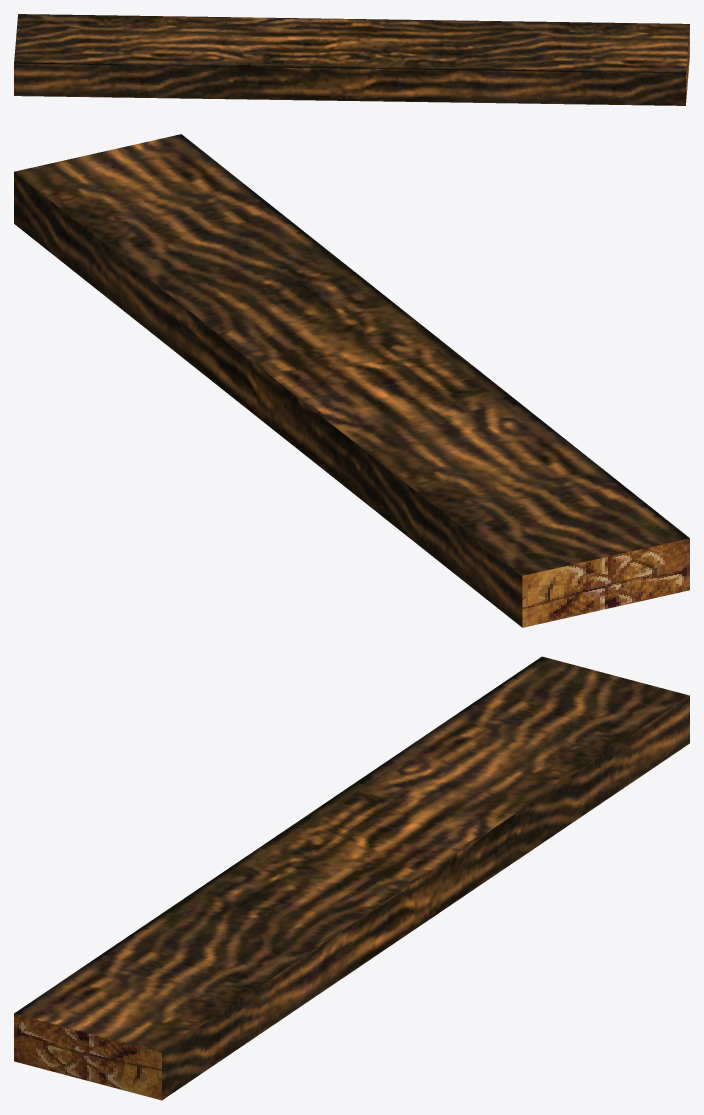
File: OVERHILL_A_01_BOX92.fbx
The picture shows the model from 3 angles, top to bottom: view 1: azimuth 30°, elevation 25°; view 2: azimuth 150°, elevation 25°; view 3: azimuth 270°, elevation 25°; orthographic projection. The views are drawn at different scales.
Parts seen in each view (by area): view 1: OVERHILL_A_01_BOX92; view 2: OVERHILL_A_01_BOX92; view 3: OVERHILL_A_01_BOX92.
Boxes of the visible parts, x1,y1,x2,y2 form: OVERHILL_A_01_BOX92: (14,14,689,105); OVERHILL_A_01_BOX92: (14,134,689,627); OVERHILL_A_01_BOX92: (14,656,689,1100).
Size of the model in its own units: 8879 by 500 by 6403.
2 materials, 2 textured.
